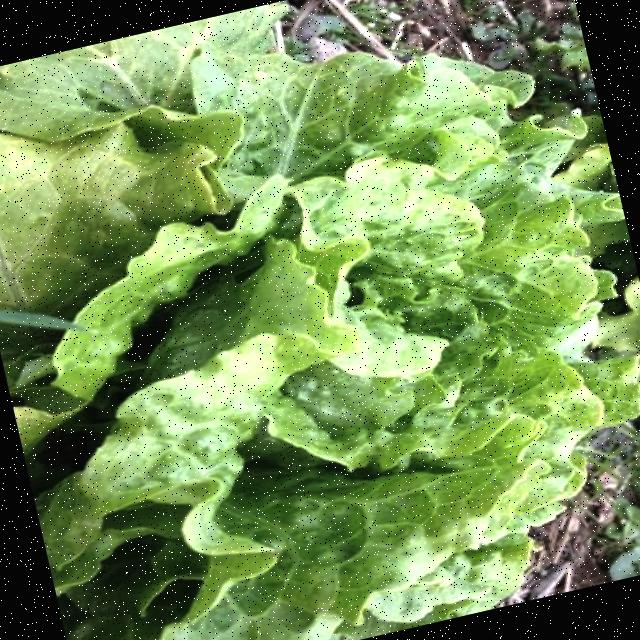healthy: (0, 58, 553, 617)
